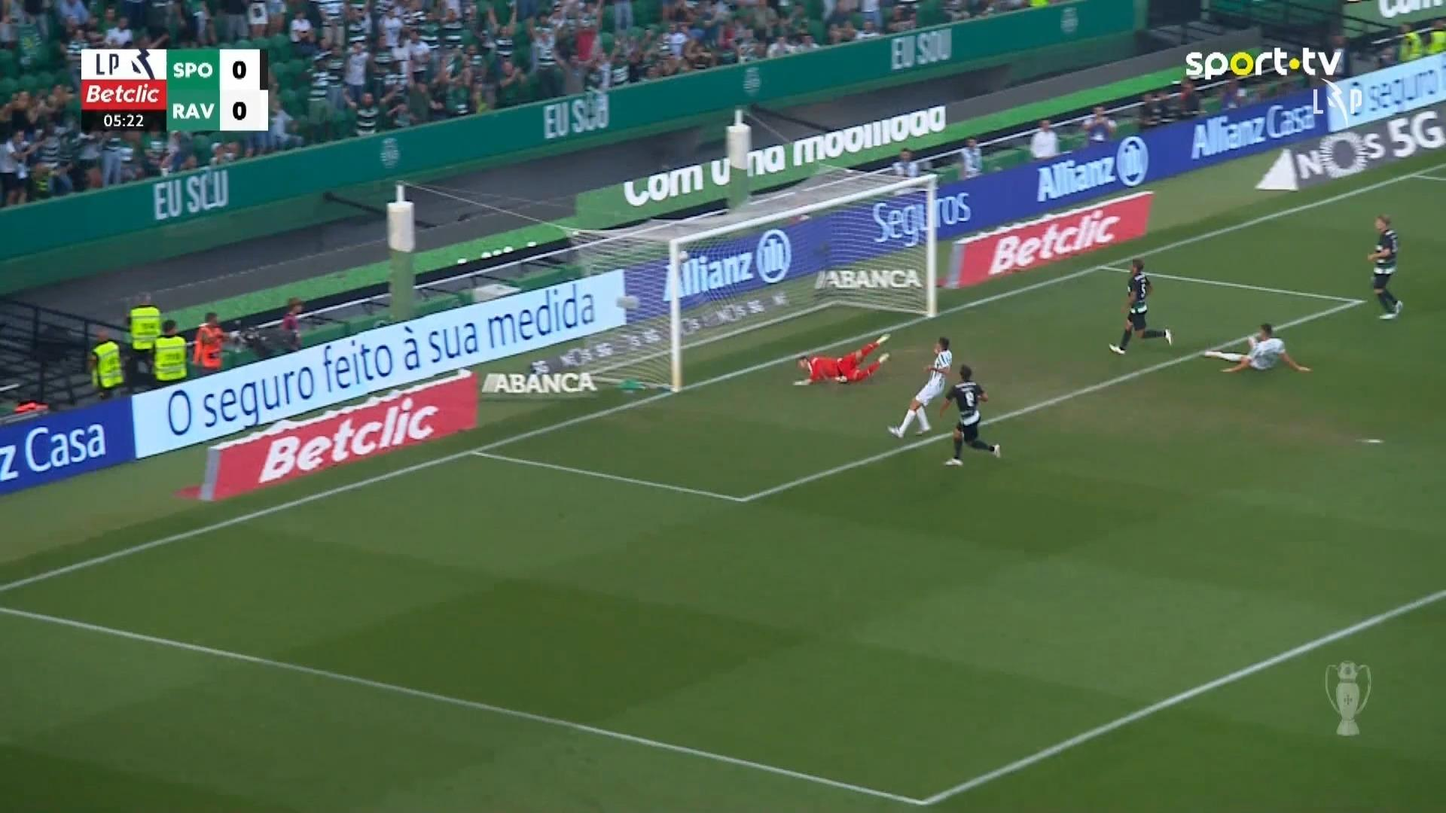ball: (679, 250, 689, 262)
goalkeeper: (792, 331, 892, 386)
player: (886, 336, 953, 439), (938, 363, 1001, 466), (1108, 257, 1173, 355), (1203, 321, 1312, 374), (1367, 213, 1403, 320)
